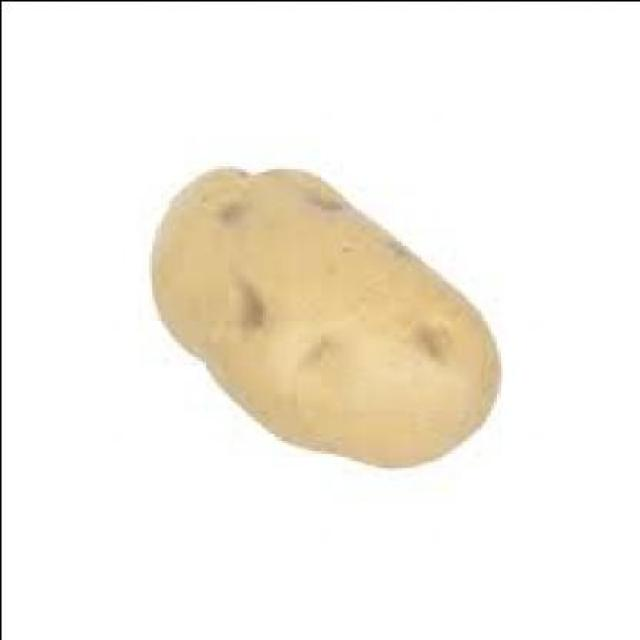BIODEGRADABLE: (144, 162, 496, 464)
